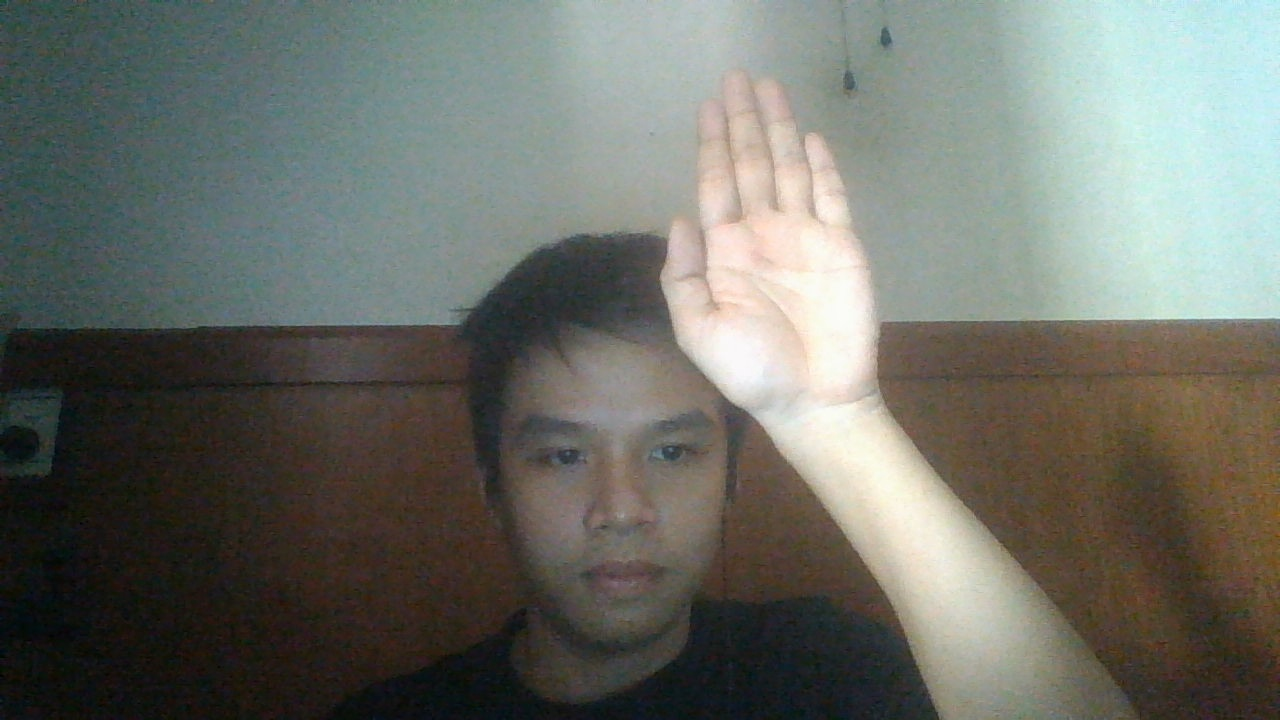check: (653, 64, 888, 430)
